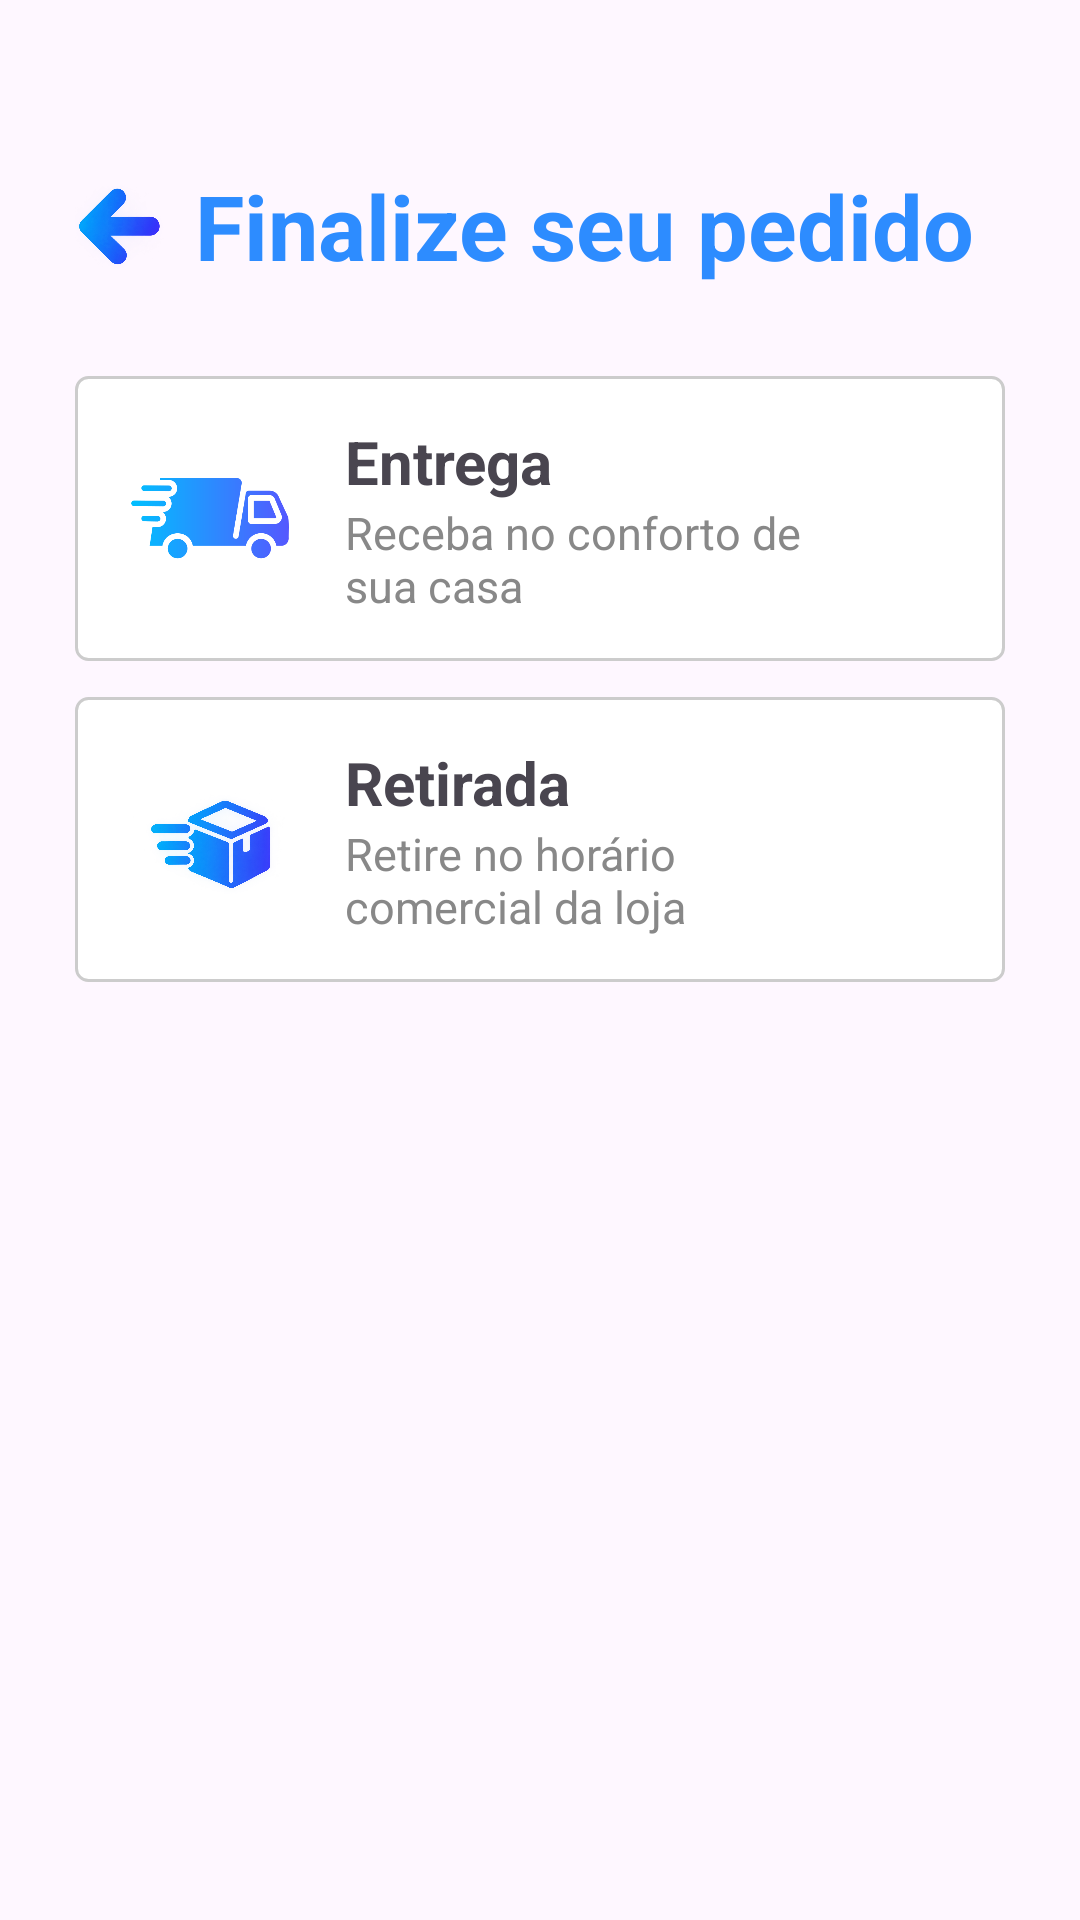

Screen size 1080×1920. Icon name, then its center in pixels as [x,y]:
caixa: [210,844]
seta: [119,226]
